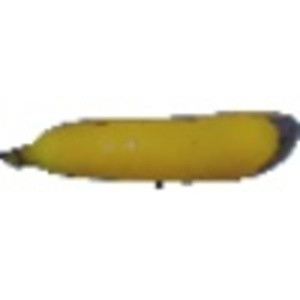banana: (2, 103, 298, 182)
